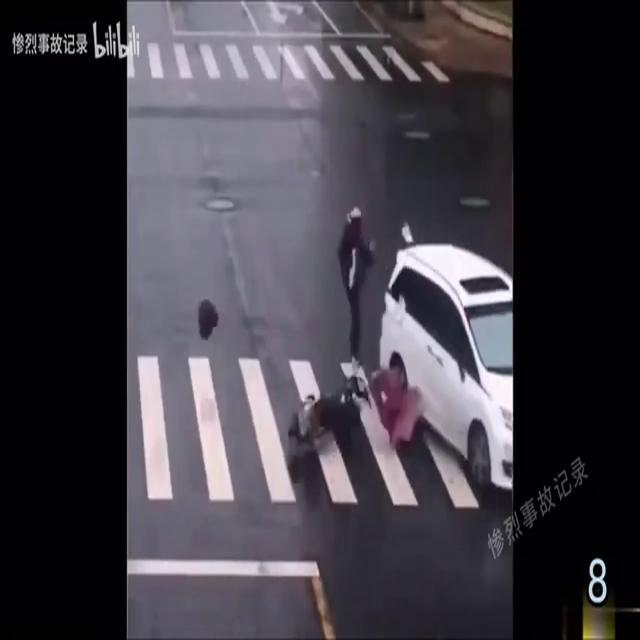multiple_accident: (257, 147, 577, 517)
